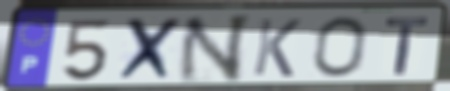5: (62, 18, 113, 83)
K: (250, 16, 305, 79)
N: (174, 12, 255, 85)
O: (312, 14, 369, 79)
T: (383, 15, 430, 77)
X: (113, 15, 186, 84)
